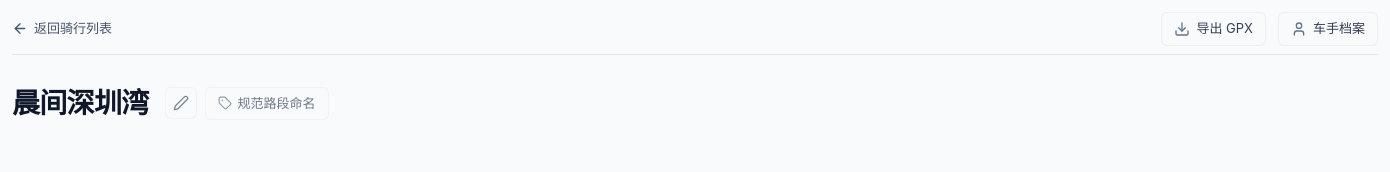
it: RideTitleHeader › 按 Escape 取消编辑
Click the button named "手动重命名" at x=180, y=103, box [164,87,196,119]
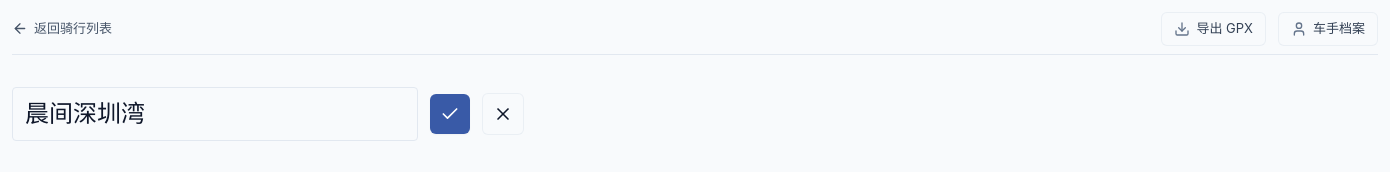
Type "x" into the field at x=215, y=114, box [12,86,418,140]
Then press Escape
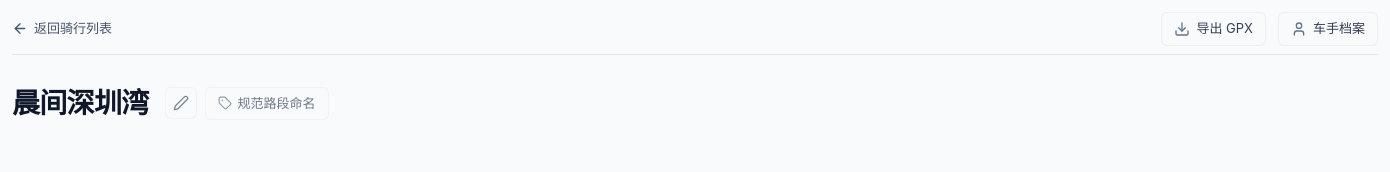
Expected: the heading reads "晨间深圳湾", [12,86,148,120]
